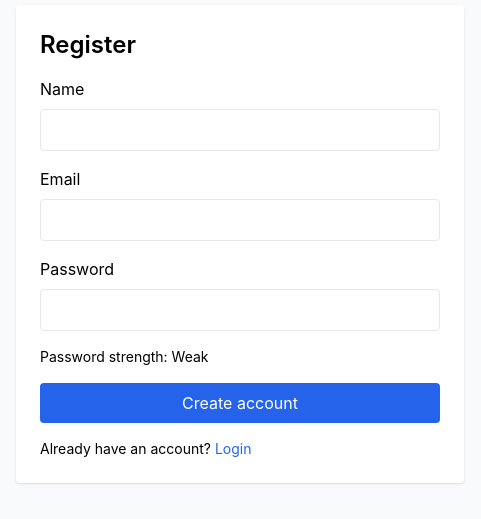
RegisterPage › shows weak password validation error
Type "New User" into the field labelled "Name" at (240, 130), box [40,109,440,151]
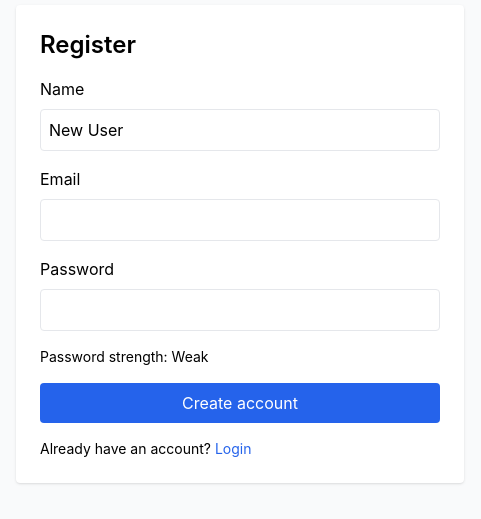
Type "new@example.com" into the field labelled "Email" at (240, 220), box [40,199,440,241]
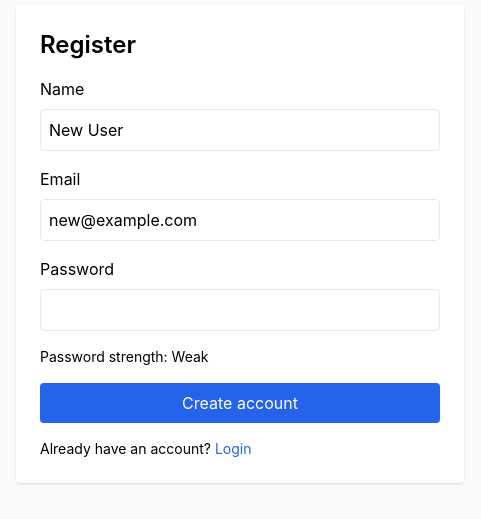
Type "weak" into the password field labelled "Password" at (240, 310), box [40,289,440,331]
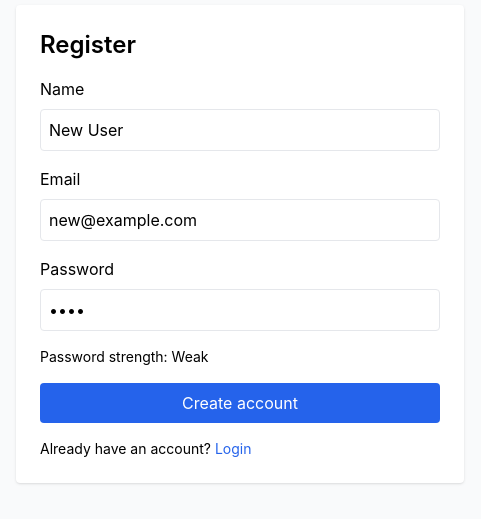
Click the button "Create account" at (240, 403), box [40,383,440,423]
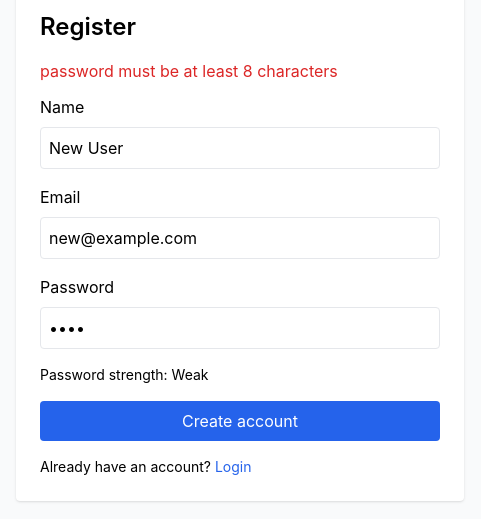
expect the message reads "password must be at least 8 characters": met, box [40,61,338,81]
